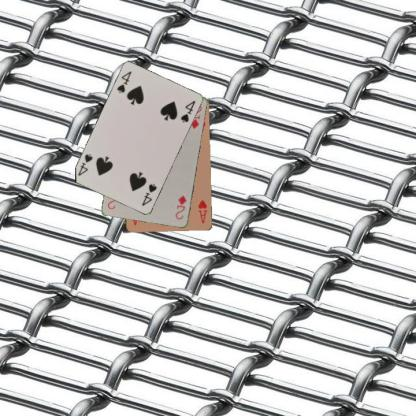2d: (173, 193, 188, 221)
4s: (114, 69, 133, 95), (140, 182, 158, 208)
Ah: (196, 196, 208, 225)
